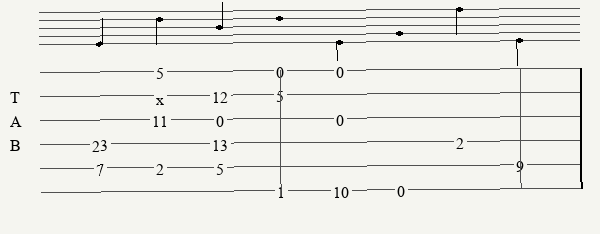0: (216, 111, 228, 126), (276, 63, 288, 78), (336, 111, 348, 126), (336, 63, 348, 78), (396, 183, 408, 198)
1: (276, 183, 288, 198)
10: (332, 183, 352, 198)
11: (152, 111, 172, 126)
12: (212, 87, 232, 102)
13: (212, 135, 232, 150)
2: (156, 159, 168, 174), (456, 135, 468, 150)
23: (92, 135, 112, 150)
5: (156, 63, 168, 78), (216, 159, 228, 174), (276, 87, 288, 102)
7: (96, 159, 108, 174)
9: (516, 159, 528, 174)
x: (156, 89, 168, 100)
